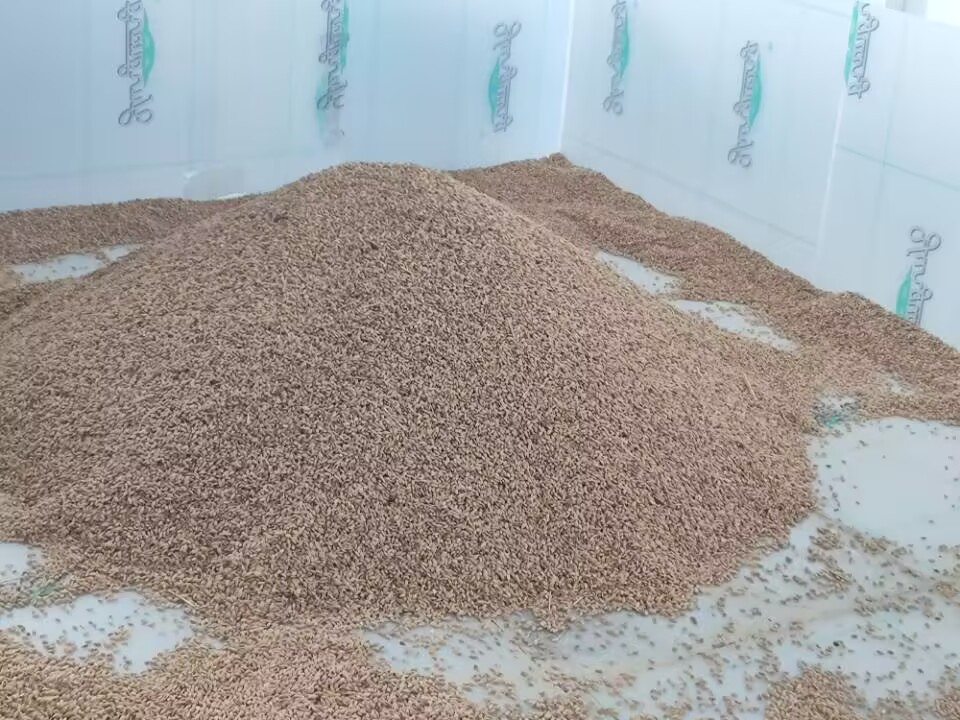Grain: (169, 153, 689, 580)
